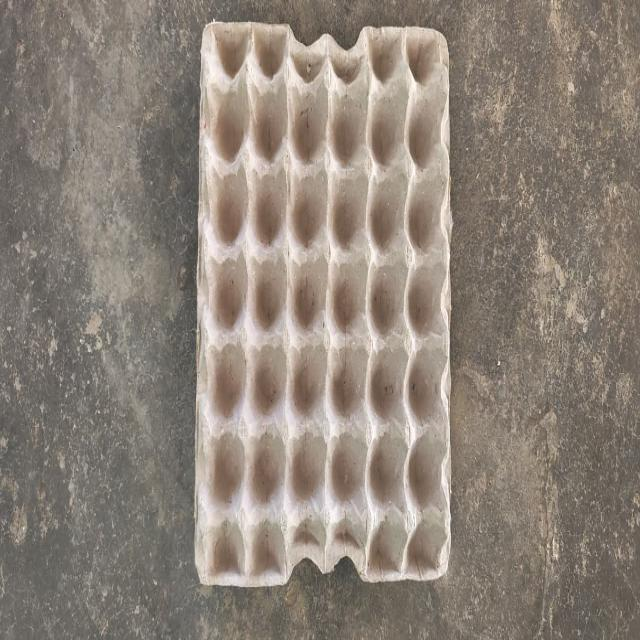egg_tray: (196, 23, 450, 585)
